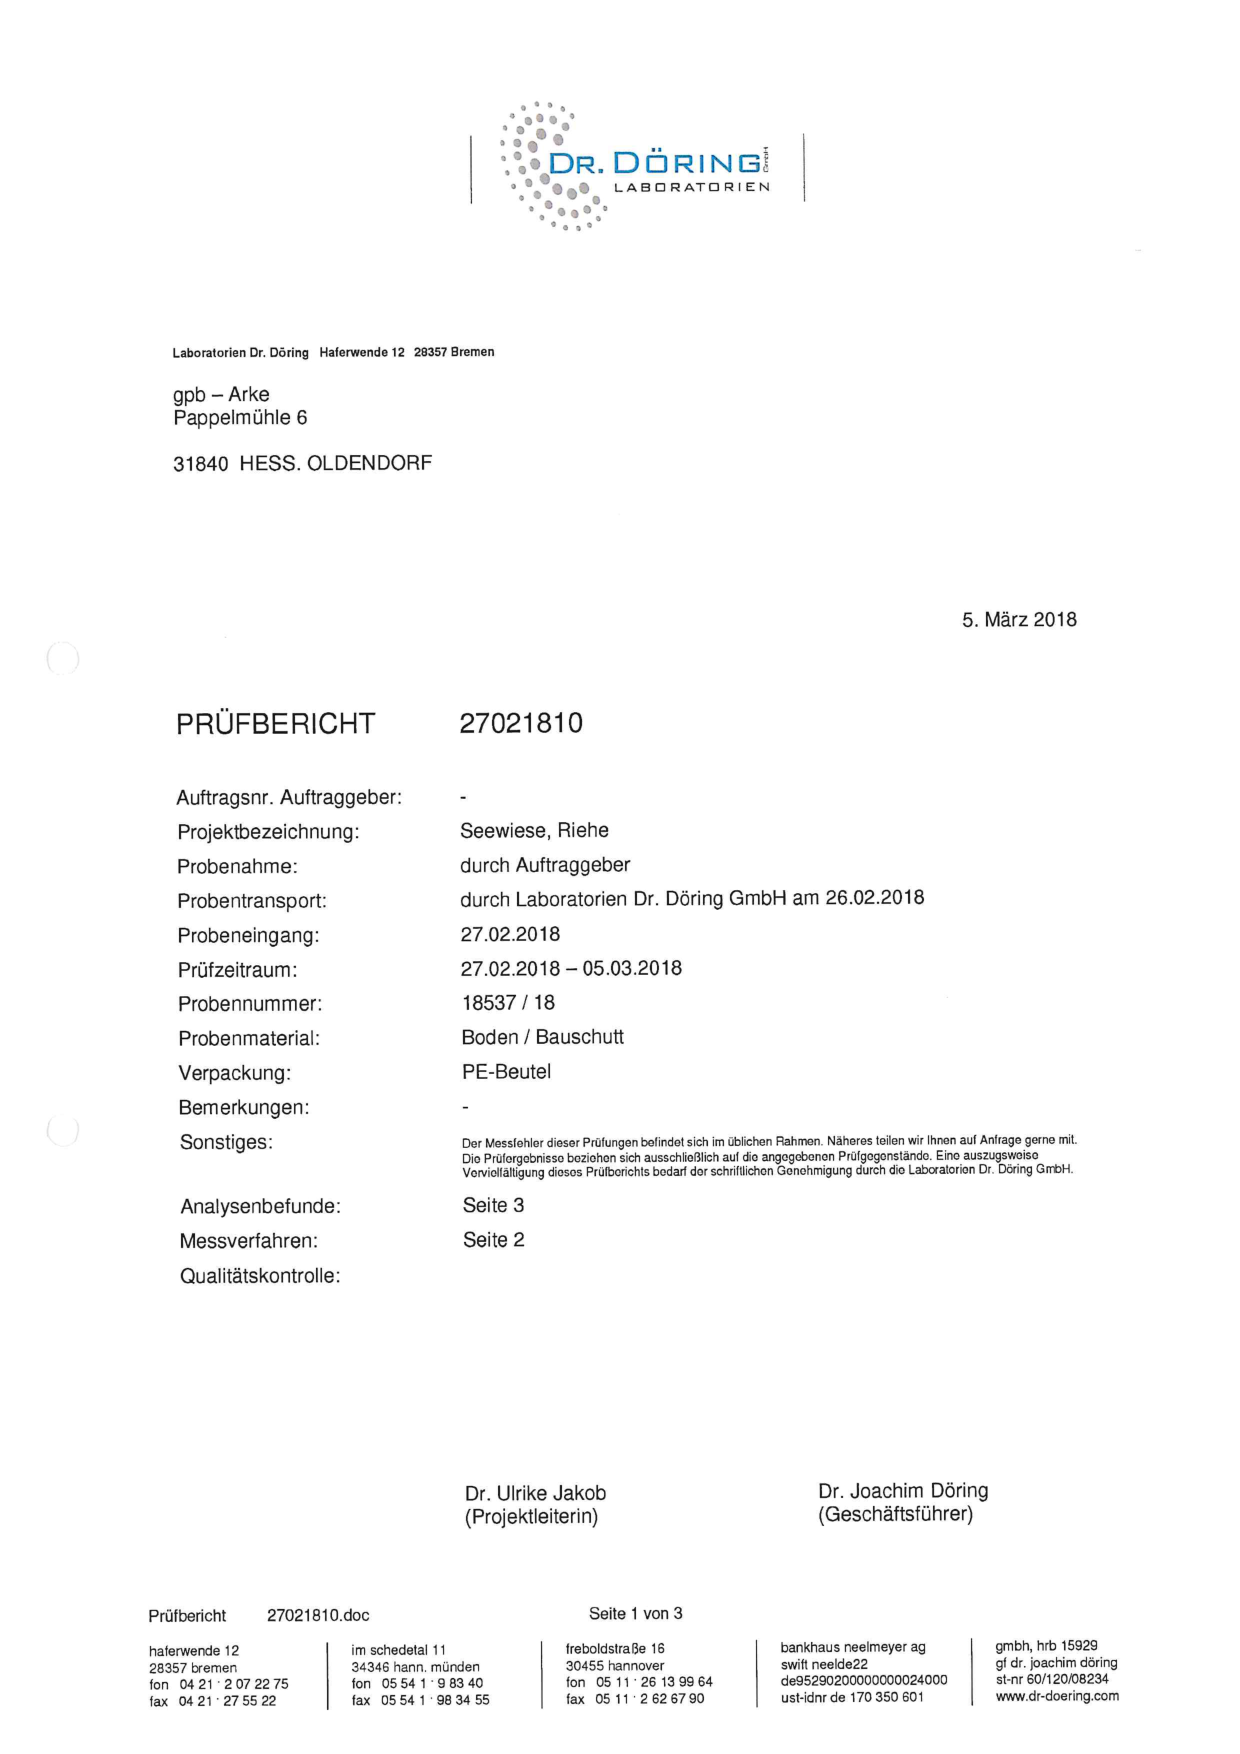table: (132, 773, 1080, 1123)
